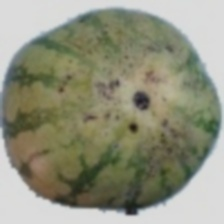watermelon: (17, 22, 168, 191)
